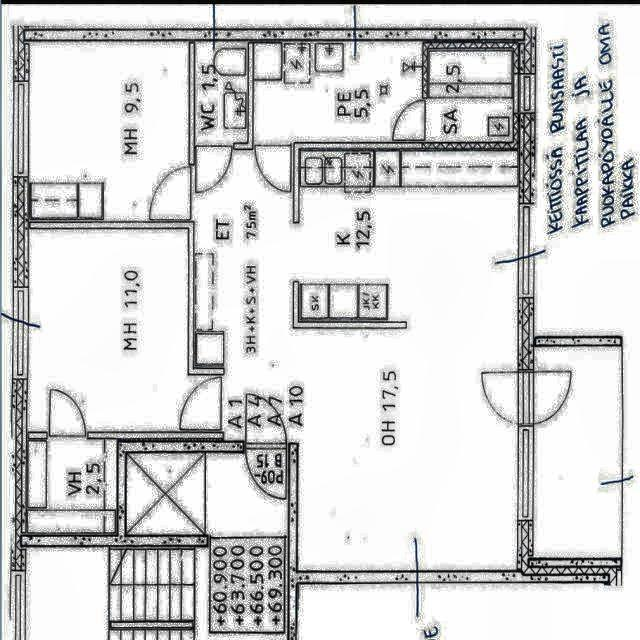room: (26, 454, 288, 639), (27, 230, 221, 432), (29, 41, 189, 221), (533, 346, 622, 557), (253, 41, 422, 143), (27, 439, 117, 535), (428, 49, 513, 142), (195, 41, 248, 143)
